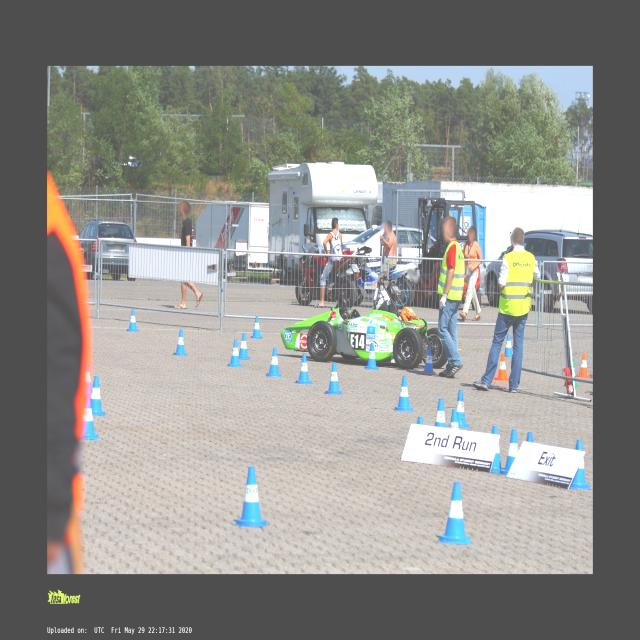blue_cone: (232, 467, 270, 528), (438, 482, 472, 546), (570, 440, 590, 490), (82, 392, 100, 440), (488, 427, 506, 472), (500, 430, 518, 474), (394, 376, 413, 412), (325, 362, 343, 394), (456, 390, 471, 428), (91, 376, 105, 416), (296, 354, 312, 384), (266, 348, 282, 376), (422, 346, 436, 375), (228, 340, 242, 368), (364, 343, 378, 370), (236, 334, 250, 360), (174, 330, 188, 356), (83, 362, 93, 398), (250, 316, 263, 339), (126, 309, 138, 332), (436, 401, 446, 426), (503, 335, 513, 357), (449, 410, 458, 428), (526, 432, 534, 444), (418, 417, 423, 424)
orange_cone: (494, 353, 510, 381), (576, 352, 590, 378)
unknown_cone: (564, 358, 580, 387)
